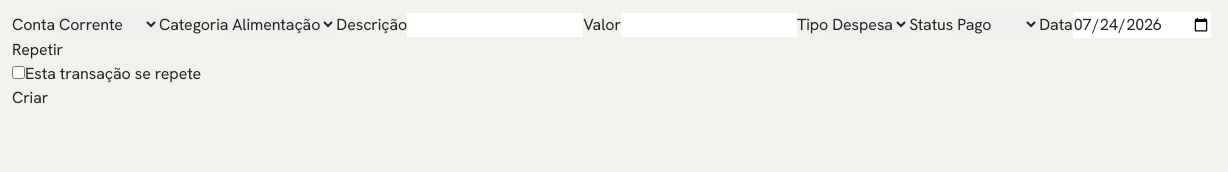
Test: TransactionForm › deve exibir erro de validação se valor for zero ou negativo
Type "Teste" into the field labelled "Descrição" at (495, 25), box [407,13,583,37]
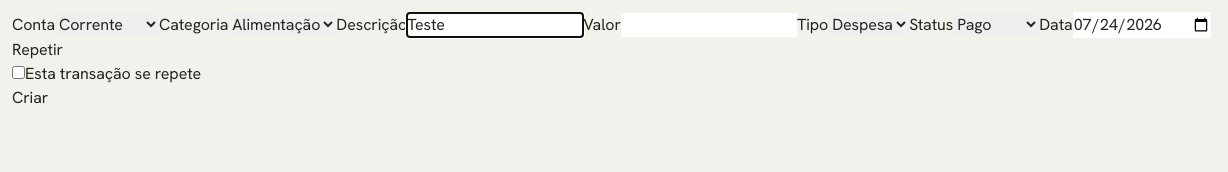
Type "0" into the number field labelled "Valor" at (709, 25), box [621,13,797,37]
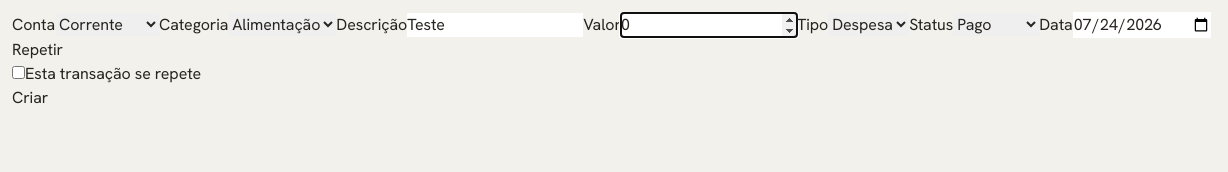
Click the button "Criar" at (30, 98), box [12,86,48,110]
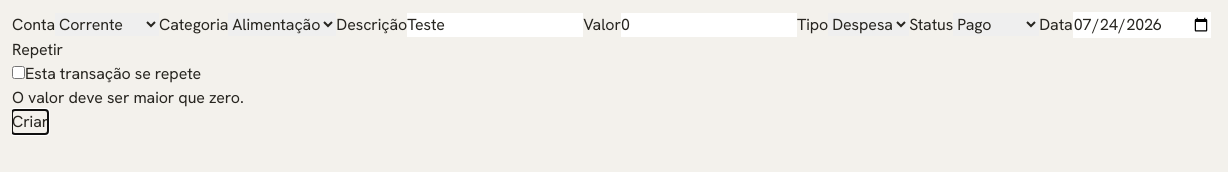
Expected: the message shows "valor deve ser maior", [12,87,244,108]
